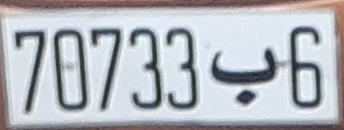0: (52, 28, 88, 111)
3: (164, 24, 200, 112), (127, 25, 163, 110)
6: (288, 25, 325, 111)
7: (13, 27, 48, 115), (89, 25, 123, 113)
b: (208, 44, 277, 109)
